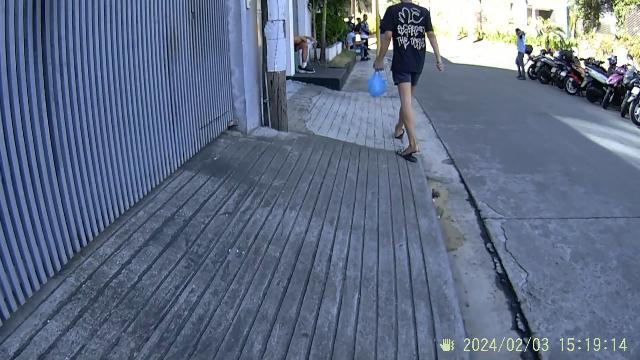motorcycle: (532, 35, 640, 124)
